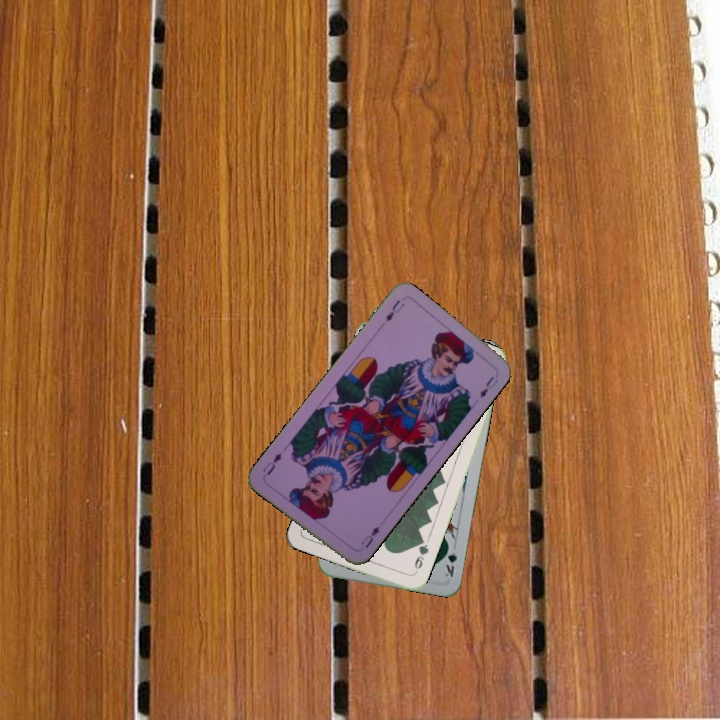EU: (381, 295, 407, 324), (357, 522, 382, 551)
G9: (410, 536, 431, 577)
GK: (440, 540, 460, 580)
